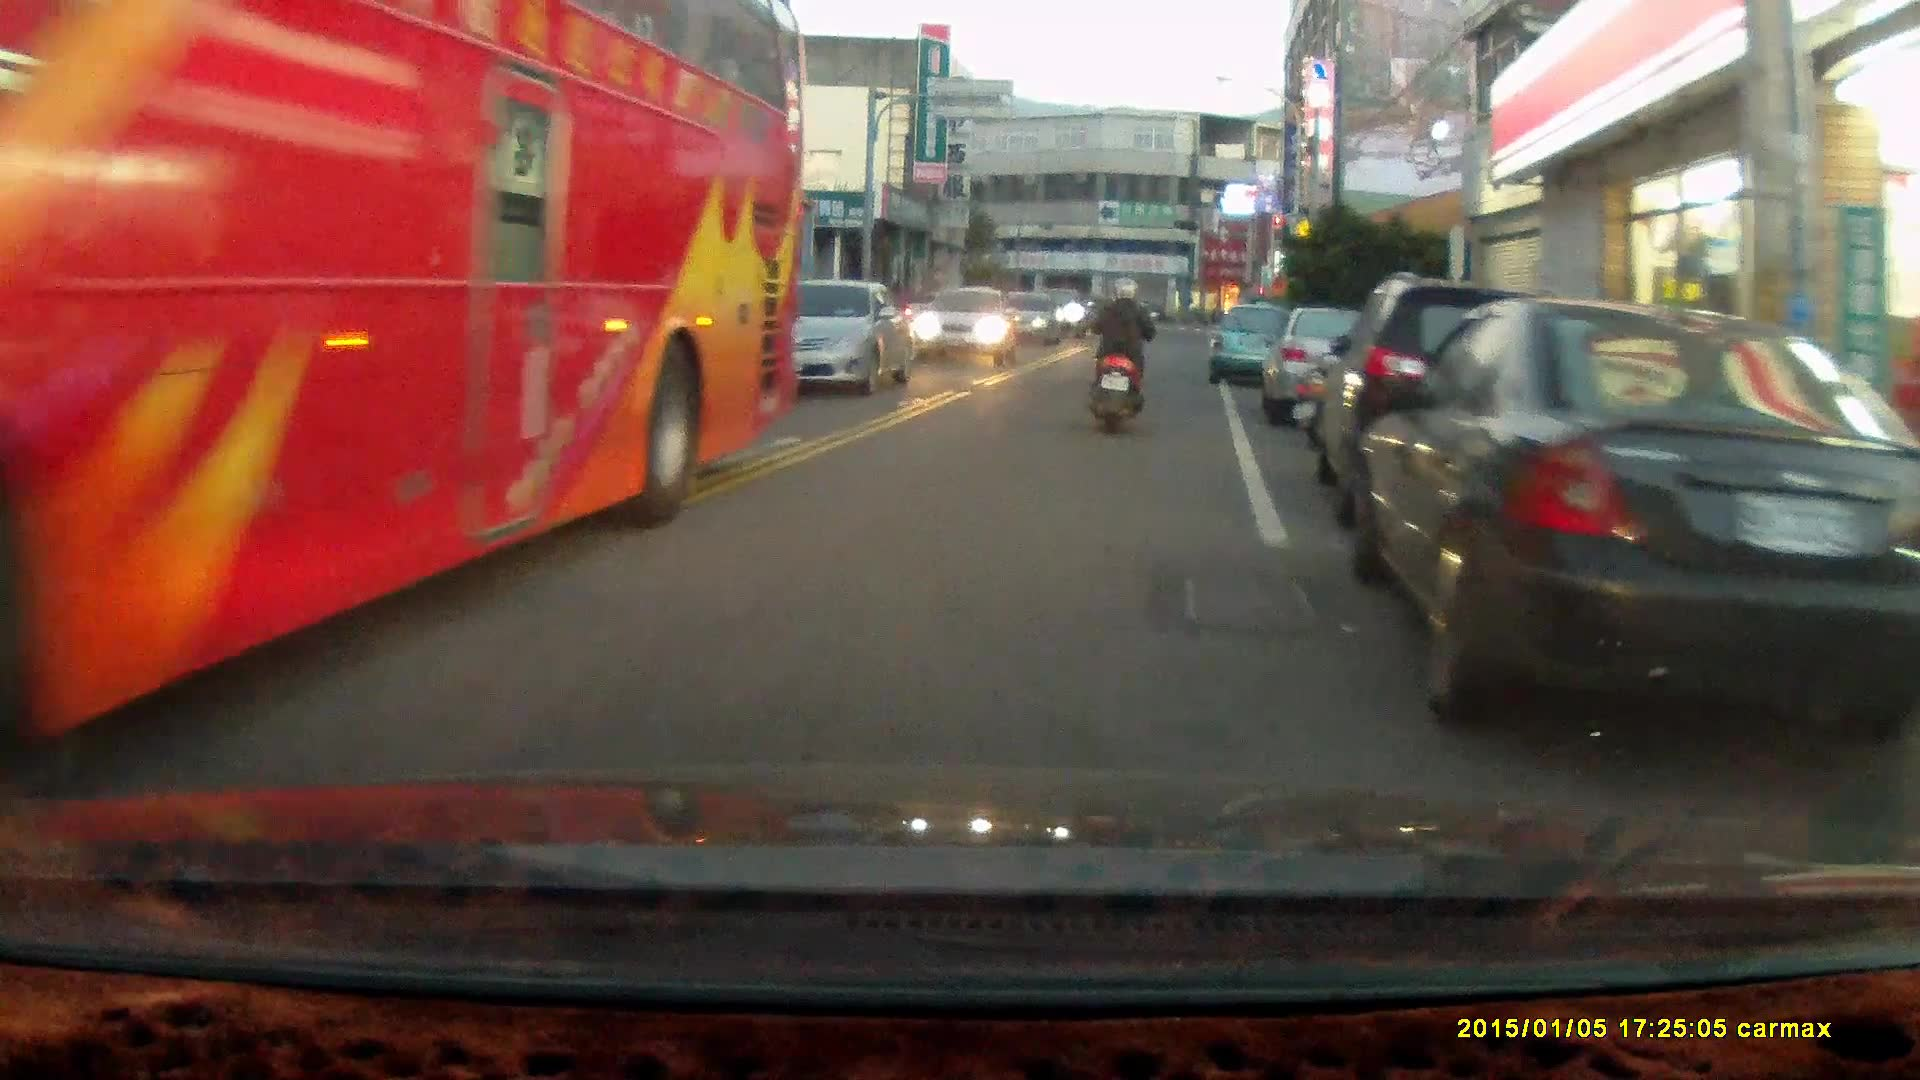rider: (1084, 274, 1157, 433)
vehicle: (1, 9, 811, 751), (1352, 300, 1920, 755), (1307, 269, 1646, 540), (1264, 304, 1450, 434), (735, 281, 910, 396), (914, 283, 1023, 366), (1209, 301, 1303, 387)
